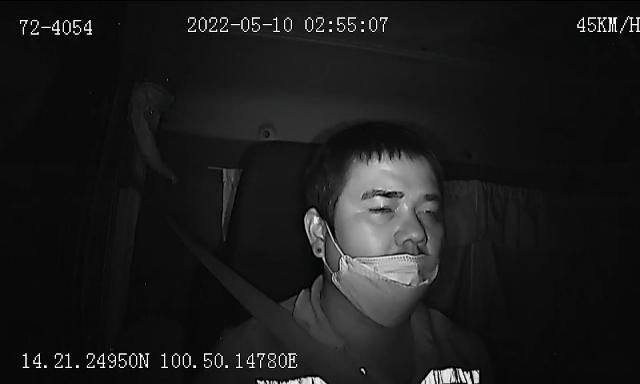SafeDriving: (360, 196, 402, 221), (414, 196, 444, 222)
Seatbelt: (206, 256, 324, 384)
